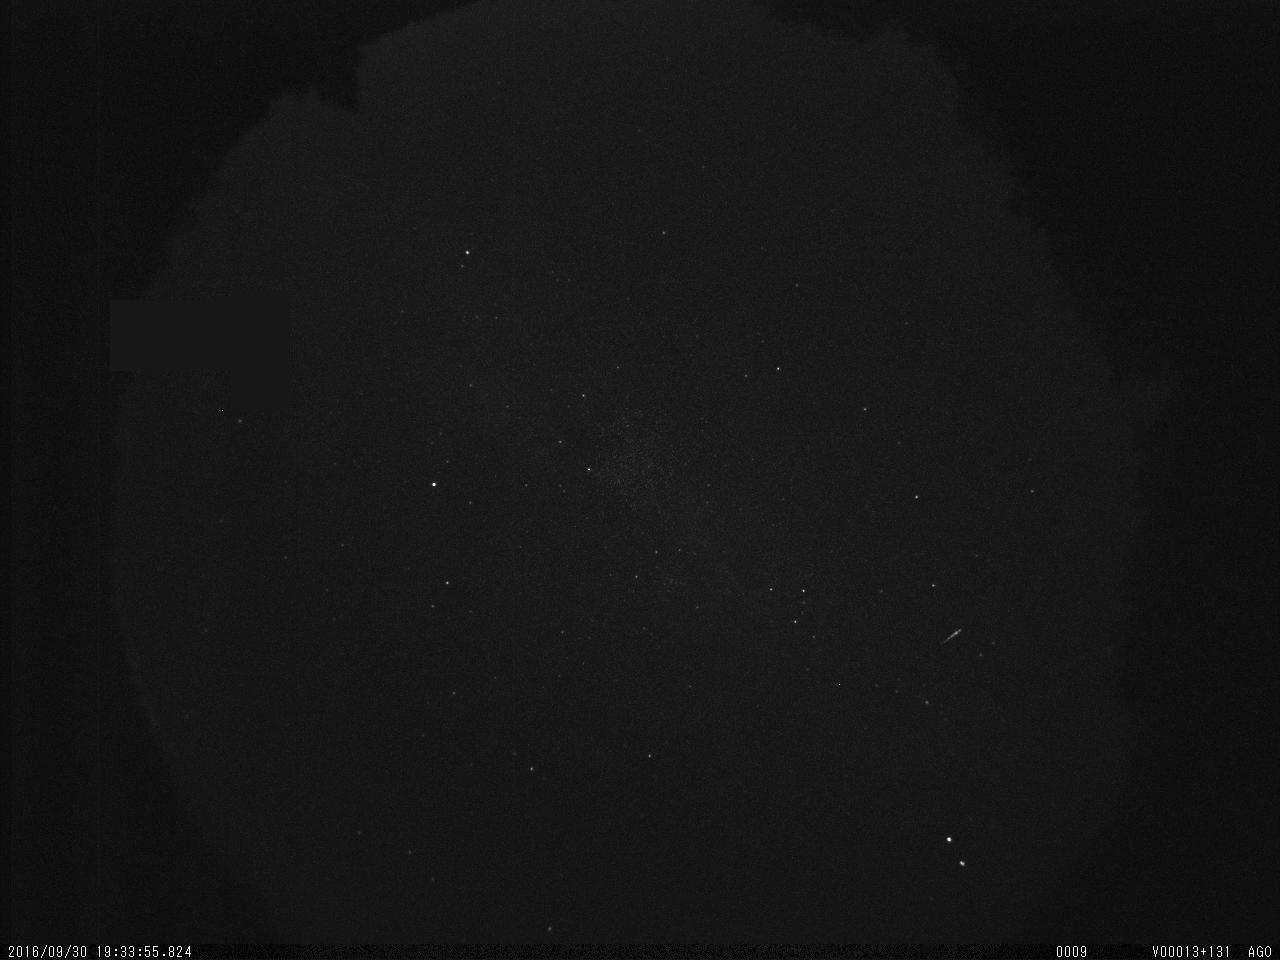Meteor: (938, 623, 968, 648)
